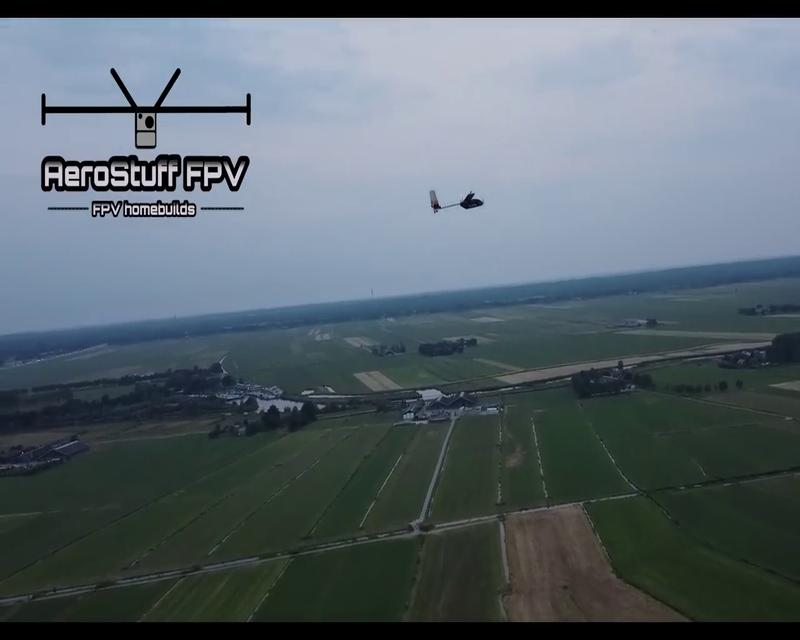UAV: (429, 188, 484, 216)
